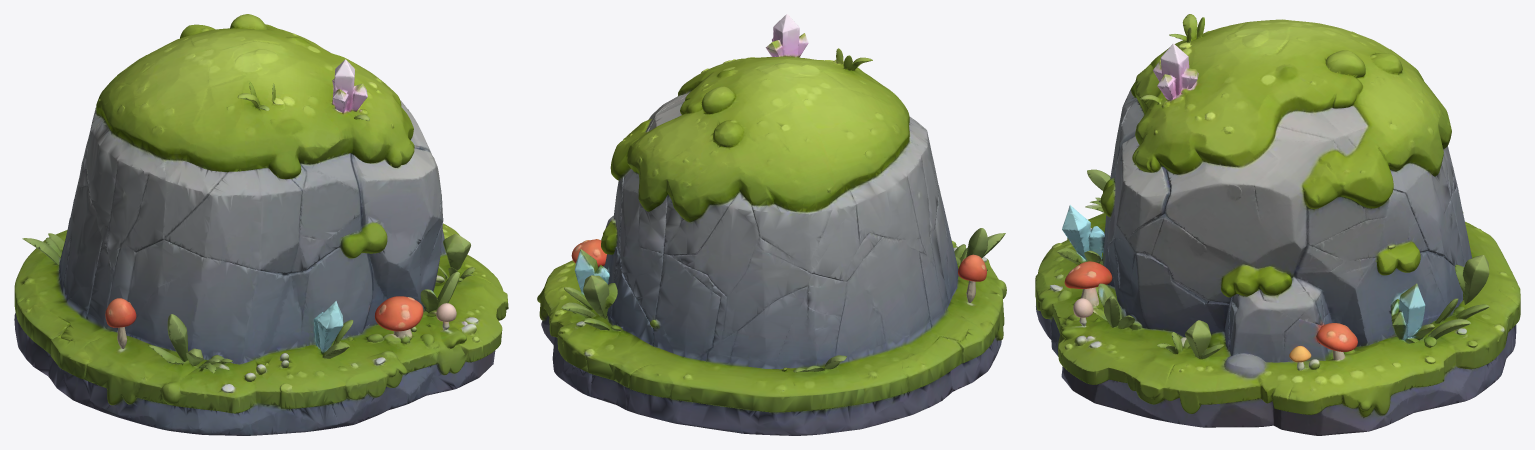
The model's file is cover_boulder.glb.
The picture shows the model from 3 angles, left to right: view 1: azimuth 30°, elevation 25°; view 2: azimuth 150°, elevation 25°; view 3: azimuth 270°, elevation 25°; orthographic projection. The views are drawn at different scales.
Parts seen in each view (by area): view 1: tripo_node_fedd5570-fe75-49bf-a5ed-de1e64e847cb; view 2: tripo_node_fedd5570-fe75-49bf-a5ed-de1e64e847cb; view 3: tripo_node_fedd5570-fe75-49bf-a5ed-de1e64e847cb.
Boxes of the visible parts, x1=… form: tripo_node_fedd5570-fe75-49bf-a5ed-de1e64e847cb: x1=14, y1=14, x2=508, y2=435; tripo_node_fedd5570-fe75-49bf-a5ed-de1e64e847cb: x1=537, y1=14, x2=1006, y2=435; tripo_node_fedd5570-fe75-49bf-a5ed-de1e64e847cb: x1=1035, y1=14, x2=1520, y2=435.
Size of the model in its own units: 0.9979 by 0.677 by 0.9729.
Materials: 1 (1 with a texture image).
